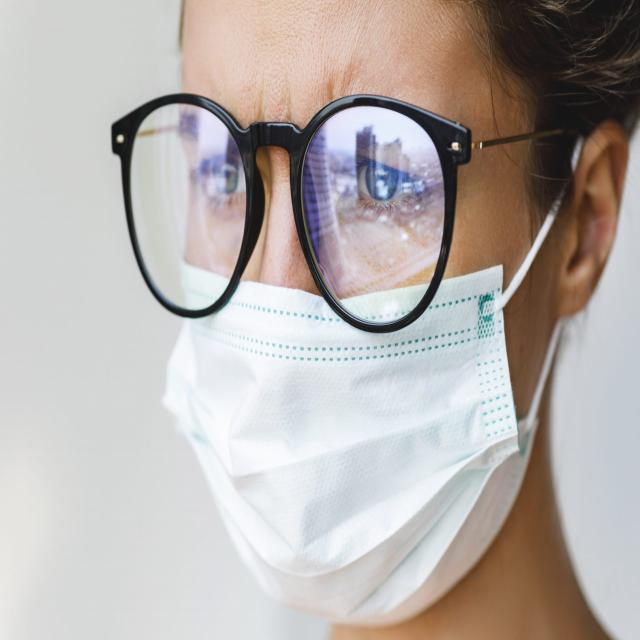Glasses: (113, 86, 562, 340)
